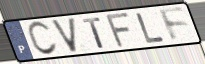C: (26, 20, 60, 57)
F: (157, 7, 191, 44), (105, 11, 132, 49)
L: (135, 12, 168, 45)
T: (81, 16, 106, 49)
V: (49, 16, 79, 55)
